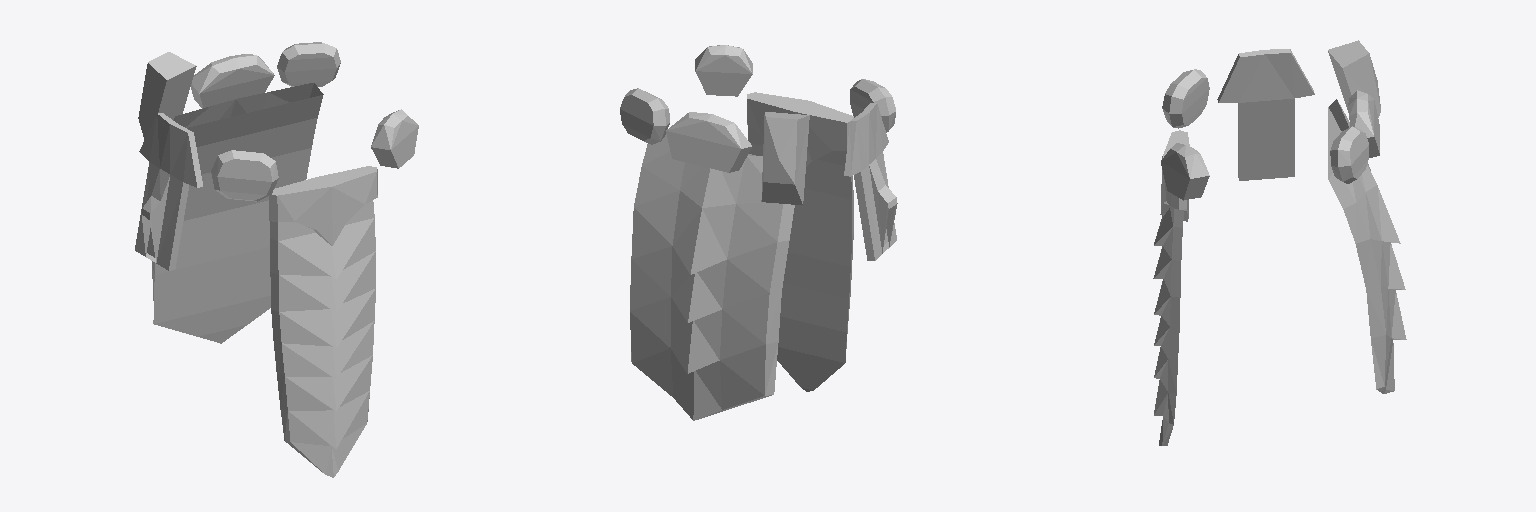
The model's file is p2_lbplate.obj.
3 views of the same model, side by side, from view 1: azimuth 30°, elevation 25°; view 2: azimuth 150°, elevation 25°; view 3: azimuth 270°, elevation 25° (orthographic).
Parts seen in each view (by area): view 1: Predatorarmour.004; view 2: Predatorarmour.004; view 3: Predatorarmour.004.
Part boxes in pixels (x1,y1,x2,y2): Predatorarmour.004: (135,42,418,477); Predatorarmour.004: (620,45,897,420); Predatorarmour.004: (1153,40,1406,445).
Size of the model in its own units: 0.8844 by 1.3 by 0.8227.